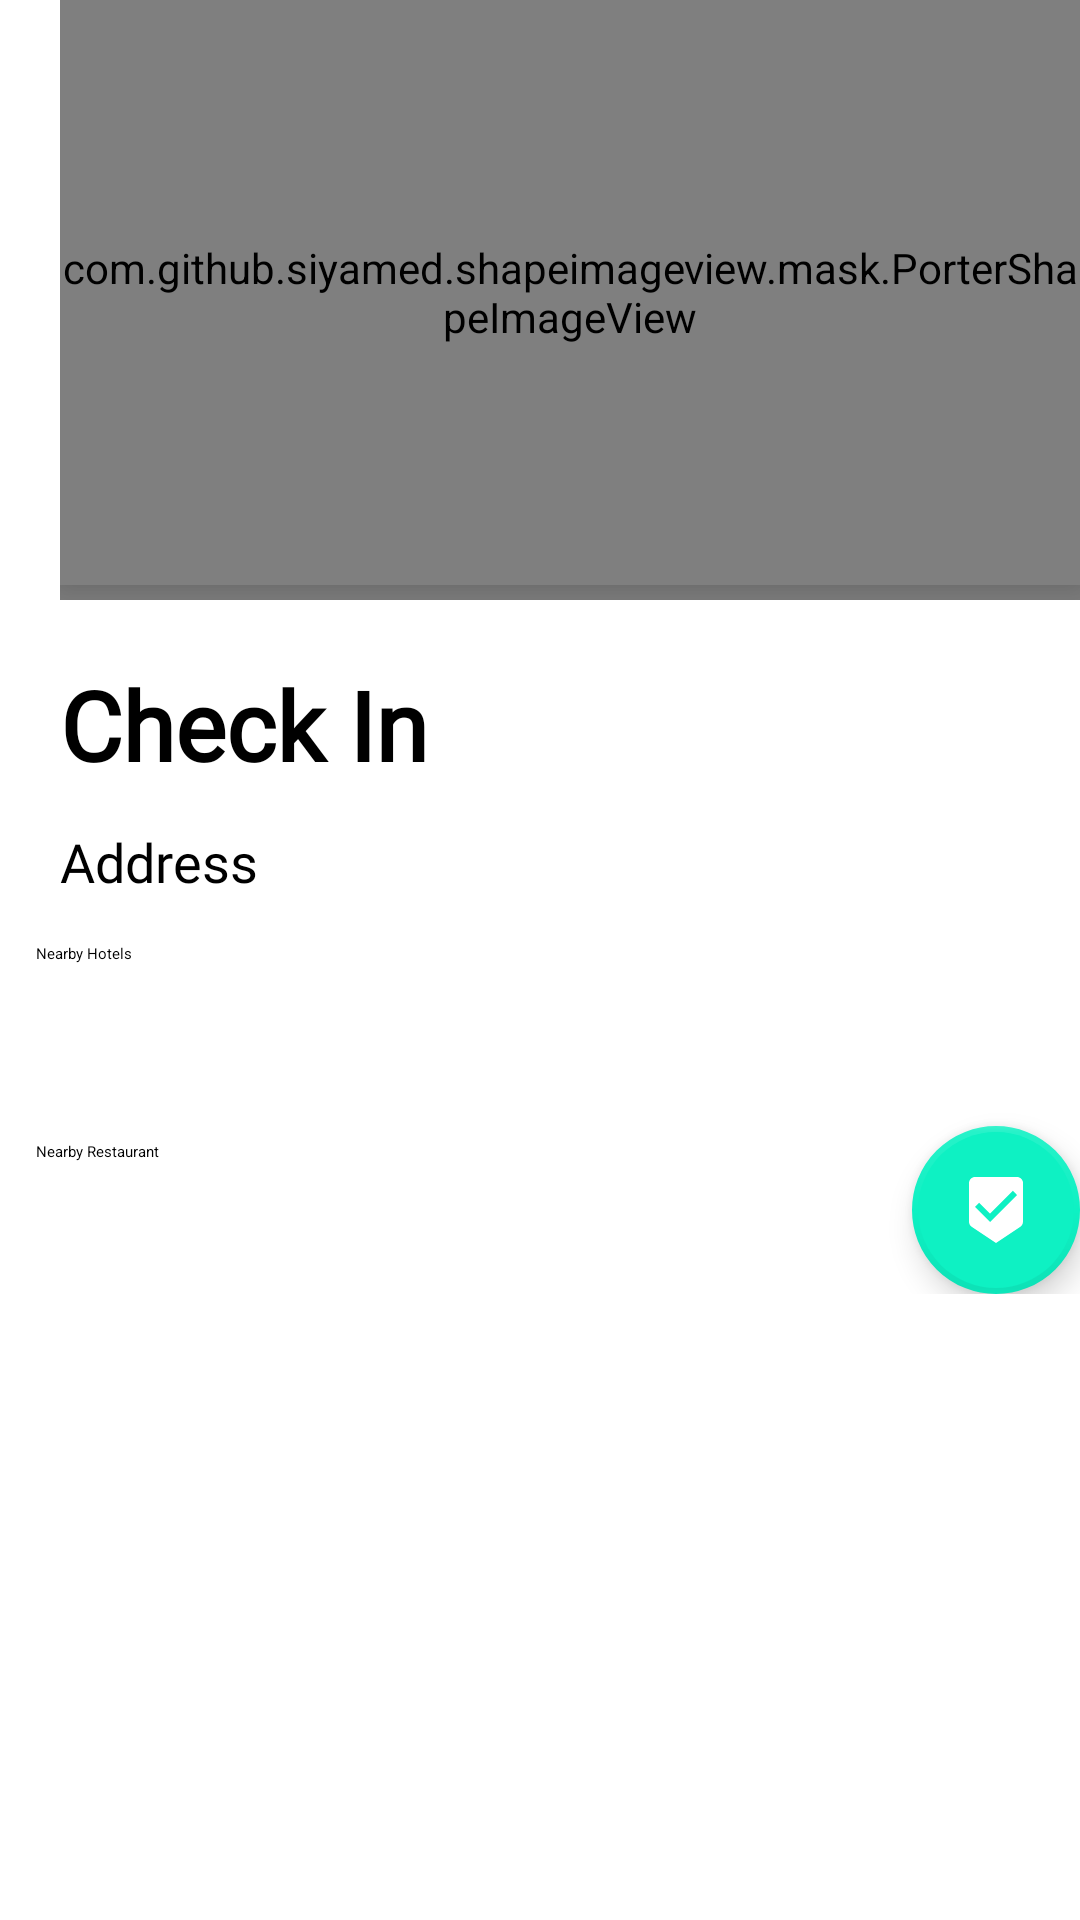

Icon bounding boxes for this 1080w x 1920h phone screenshot, format bbox(x1, y1, x2, y2):
beenhere: bbox(912, 1126, 1080, 1294)
